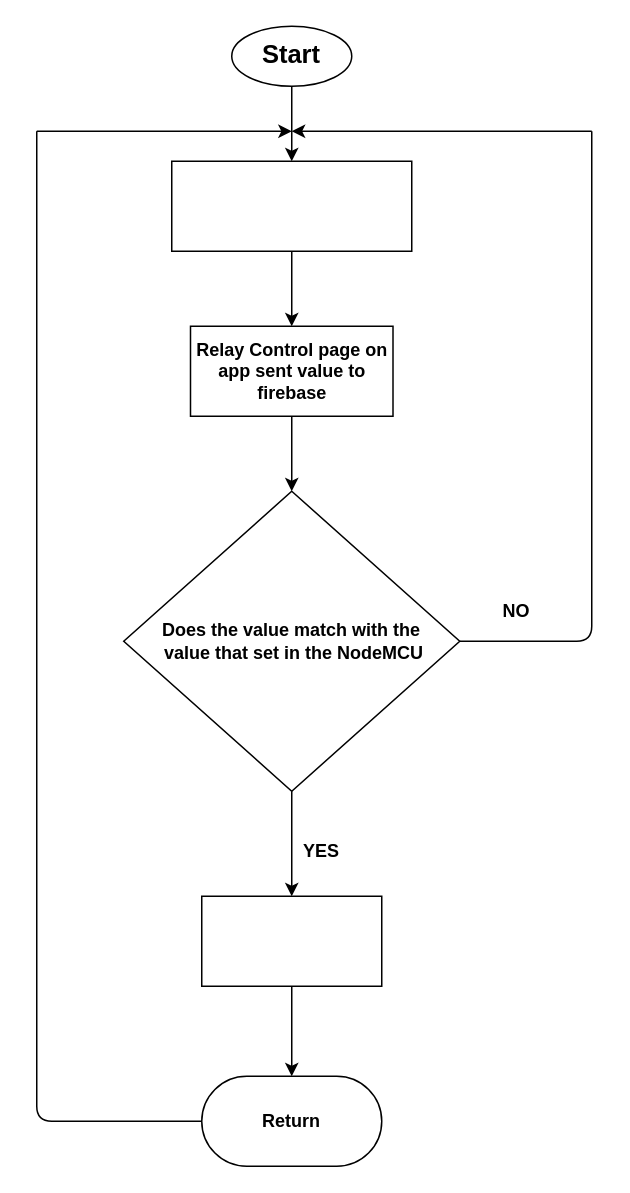
This 630x1193 diagram has some shape labels left out. Each missing label, with the centre of its shape:
Initialize System Peripheral: the point at 291,205
LOAD ON/OFF: the point at 291,940
